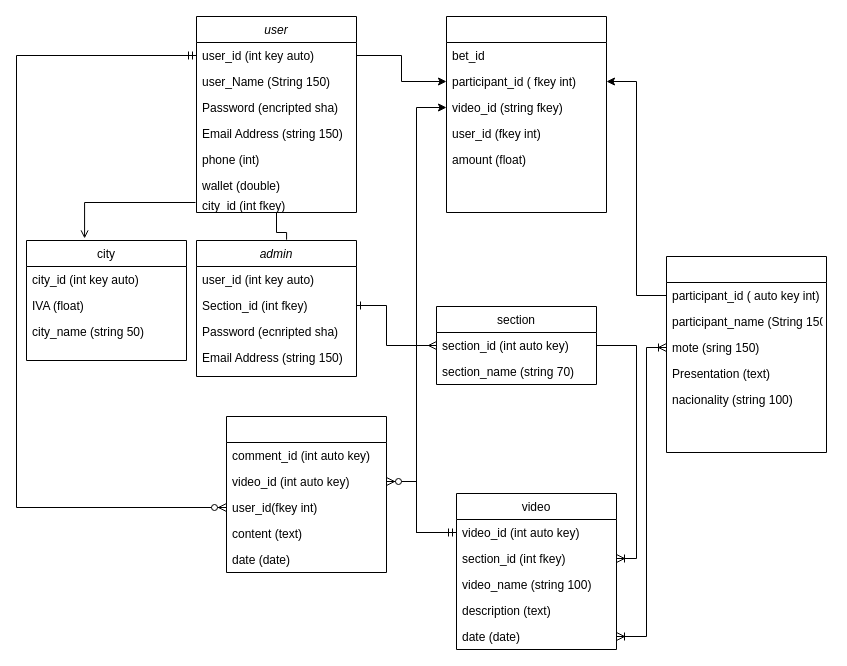
Some shapes in this 847 by 666 pixel diagram are drawn without their labels. The box of each missing label's shape, as (x1, y1, x2, y2) in pixels:
bets: (446, 16, 606, 212)
commnet: (226, 416, 386, 572)
participants: (666, 256, 826, 452)
